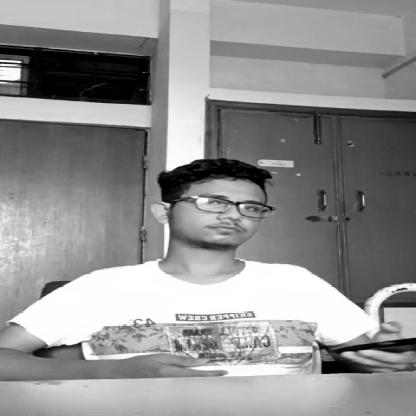Normal: (160, 156, 271, 250)
